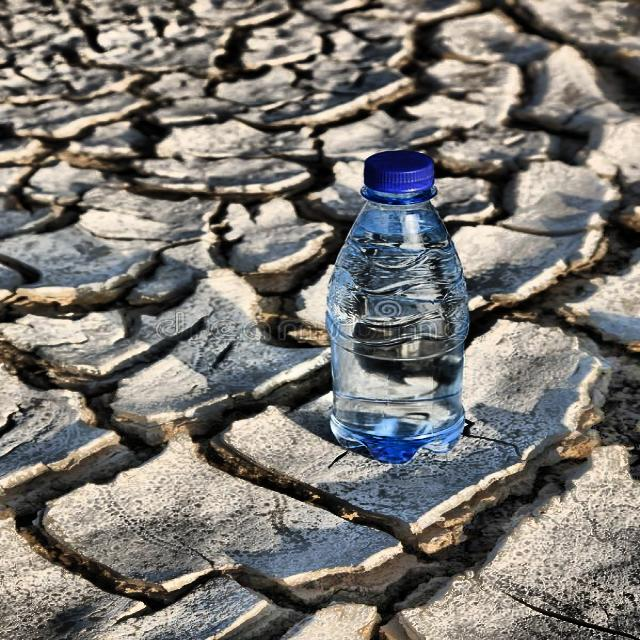Bottles: (305, 144, 480, 471)
